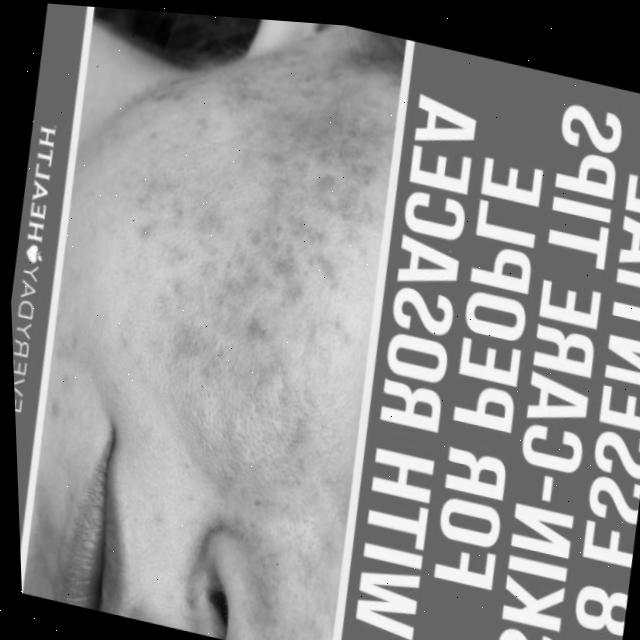Rosacea: (101, 74, 387, 570)
